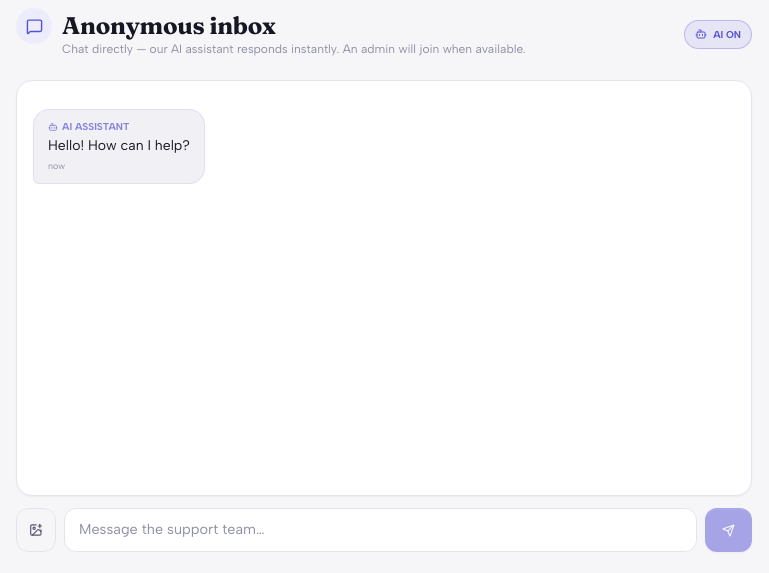
it: UserChat � fallbacks, banners and attachments › shows the crisis banner when the emotion level is critical
Expected: the text "Hello! How can I help?" is shown, top-left (48, 136), bottom-right (190, 156)
Type "I am not okay" into the field named "Chat message" at (380, 530), box top-left (64, 508), bottom-right (697, 552)
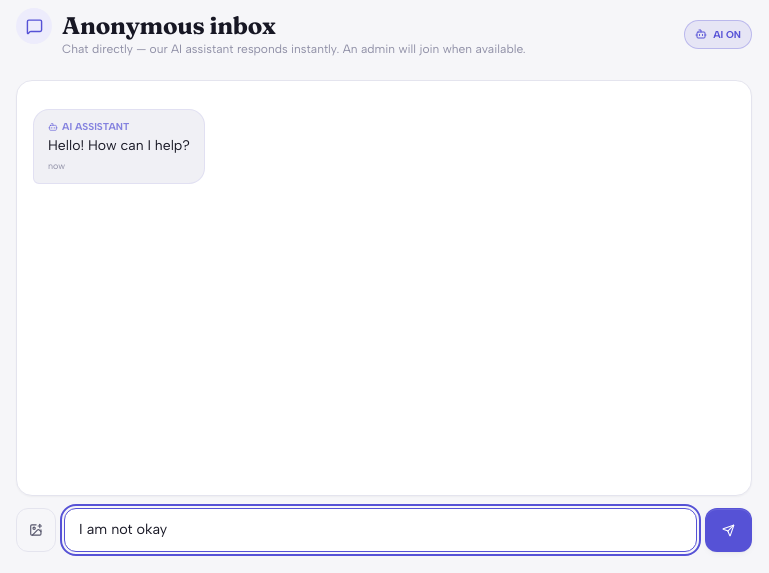
Click the button named "send" at (729, 530), box top-left (705, 508), bottom-right (752, 552)
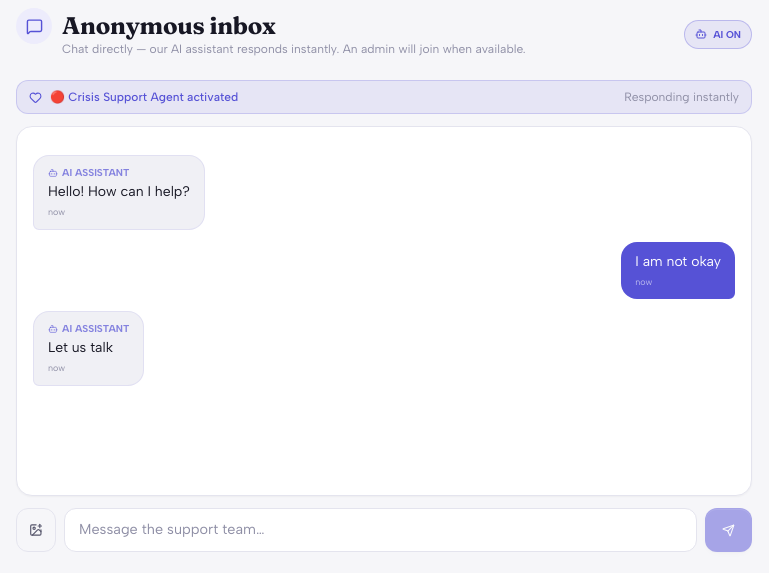
Now the text "🔴 Crisis Support Agent activated" is shown, box top-left (50, 89), bottom-right (238, 105)
